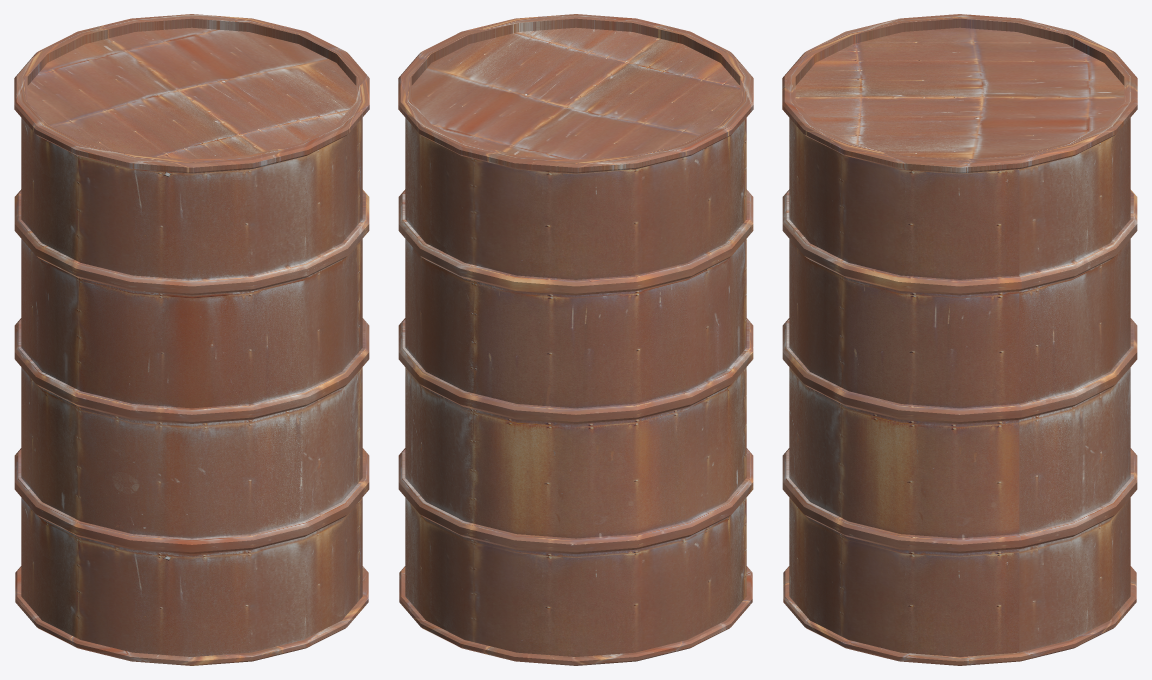
File: barrelExported.fbx
3 views of the same model, side by side, from view 1: azimuth 30°, elevation 25°; view 2: azimuth 150°, elevation 25°; view 3: azimuth 270°, elevation 25° (orthographic).
Parts seen in each view (by area): view 1: Barrel01; view 2: Barrel01; view 3: Barrel01.
Boxes of the visible parts, <box> form: Barrel01: <box>14,14,369,665</box>; Barrel01: <box>398,14,753,665</box>; Barrel01: <box>782,14,1137,665</box>.
Bounding box in the file's own units: 1.29 × 1.97 × 1.27.
